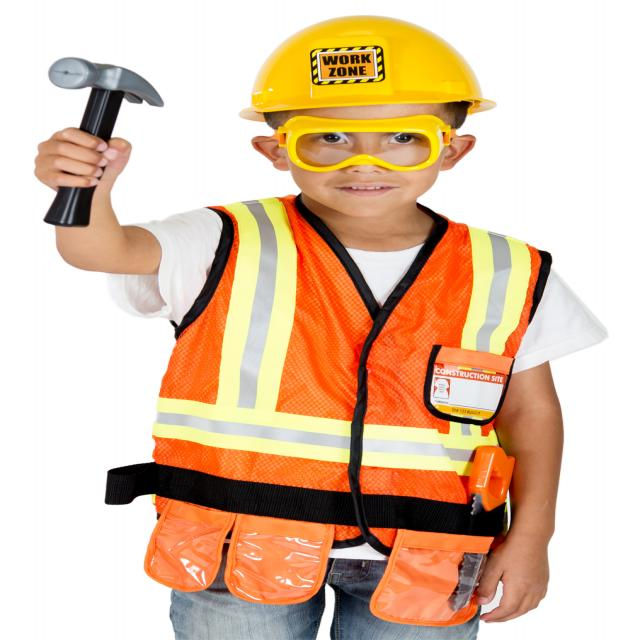Reflective-Jacket: (130, 197, 552, 611)
Safety-Helmet: (235, 13, 495, 125)
